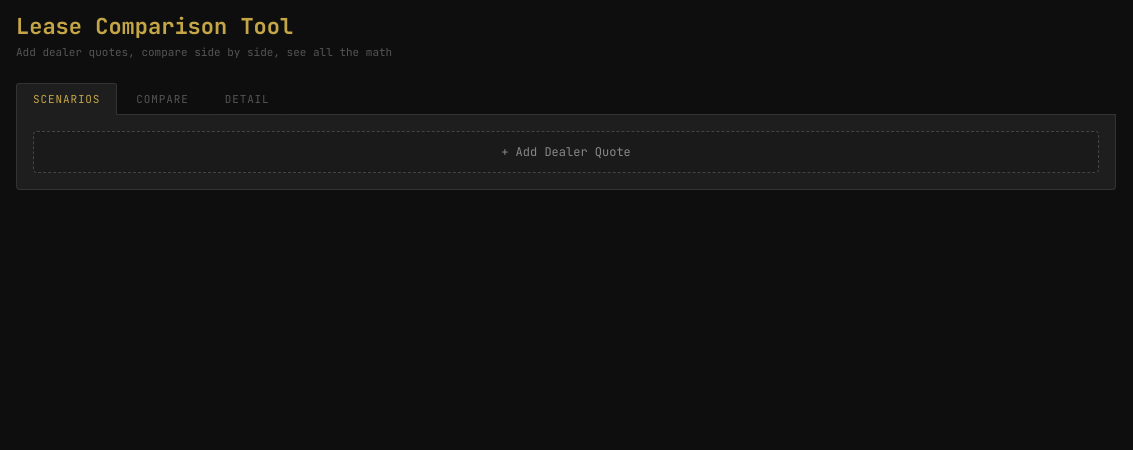
Test: App › adds a new scenario with default values
Click the button "+ Add Dealer Quote". click: (566, 152)
box: [33,131,1099,173]
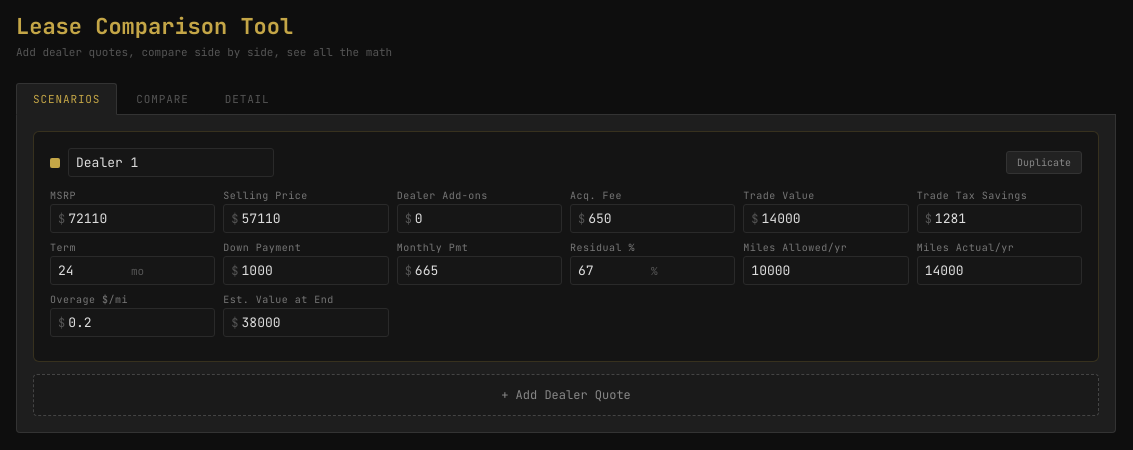
Now the field showing "Dealer 1" is shown, box [68,148,274,177]
